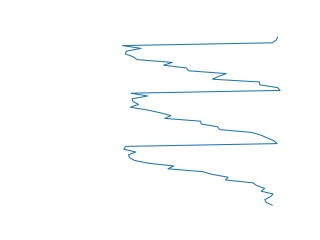distributaryMouthBar: (118, 33, 283, 208)
